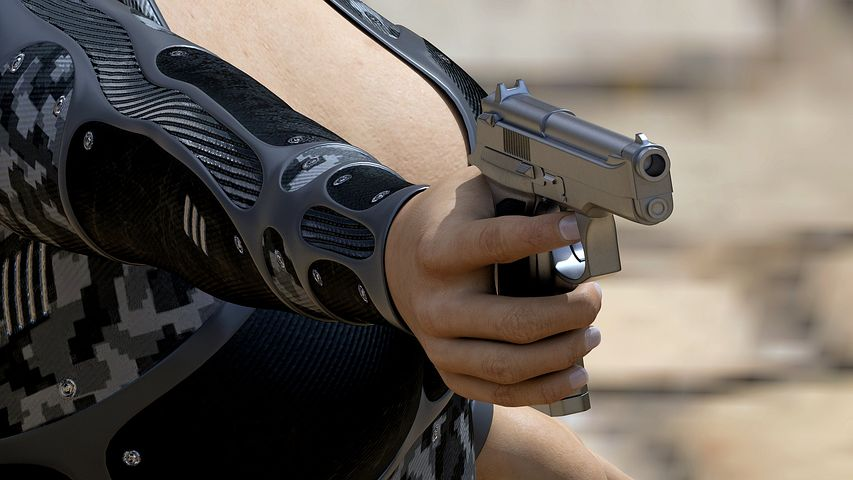gun: (464, 72, 679, 424)
